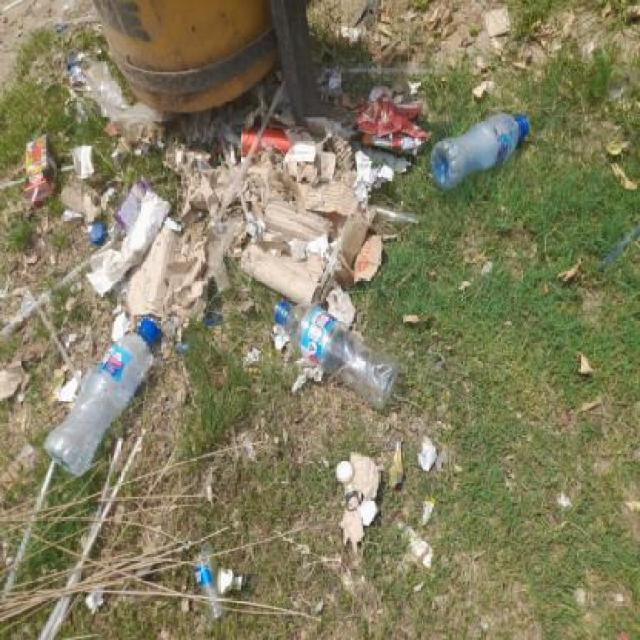garbage: (3, 60, 639, 640), (311, 5, 640, 54)
